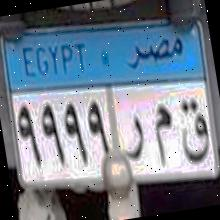9: (16, 103, 41, 171), (62, 102, 88, 166), (40, 102, 64, 166), (84, 100, 112, 154)
meem: (147, 98, 181, 168)
qaaf: (176, 94, 217, 163)
raa: (118, 107, 150, 163)
